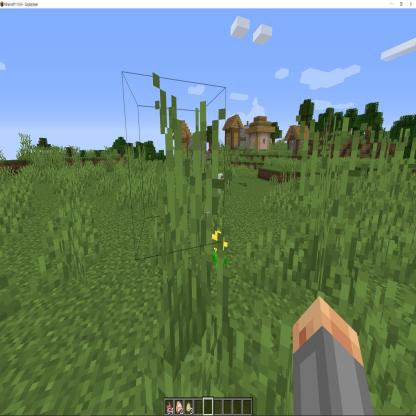minecraft-pigs: (214, 170, 225, 202)
